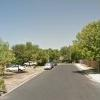Tree: (63, 9, 100, 63)
